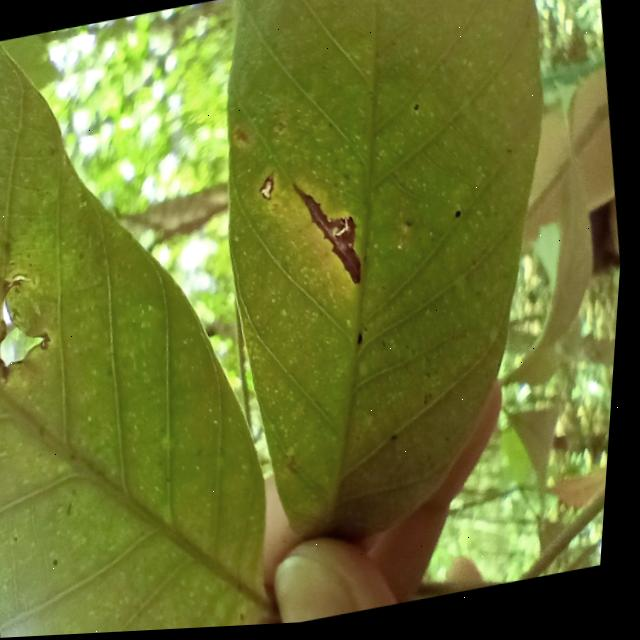Colletotrichum: (457, 215, 464, 224)
Corynespora: (288, 173, 372, 299)
